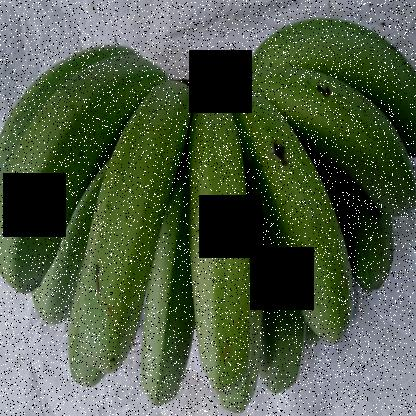freshunripe: (76, 42, 193, 378), (1, 52, 143, 300), (228, 101, 359, 342), (179, 98, 260, 397), (265, 8, 416, 116), (303, 99, 416, 222), (134, 258, 191, 415)
